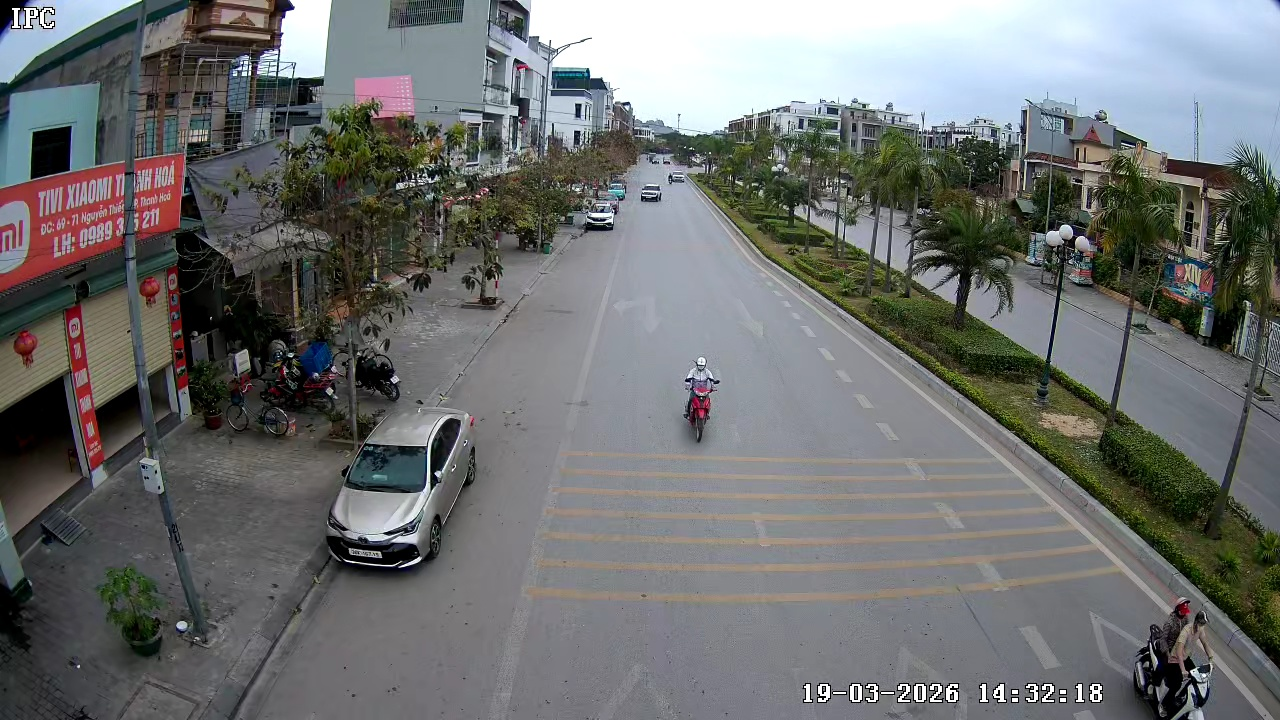car: (325, 404, 478, 572), (581, 202, 617, 231), (639, 180, 663, 203)
motorbike: (1131, 594, 1216, 719), (679, 354, 722, 444)
